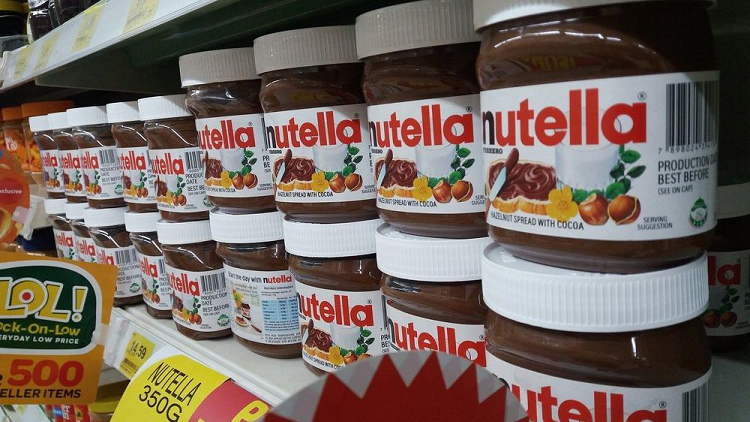nutella: (472, 1, 718, 275), (480, 241, 714, 422), (355, 1, 487, 239), (253, 24, 369, 222), (377, 223, 488, 421), (178, 51, 277, 213), (284, 218, 381, 378), (210, 208, 299, 358), (158, 217, 231, 342), (83, 207, 138, 307), (64, 105, 118, 206), (124, 210, 170, 317), (108, 99, 151, 209), (49, 112, 82, 204), (28, 114, 61, 197), (43, 198, 74, 260), (65, 204, 95, 263)
